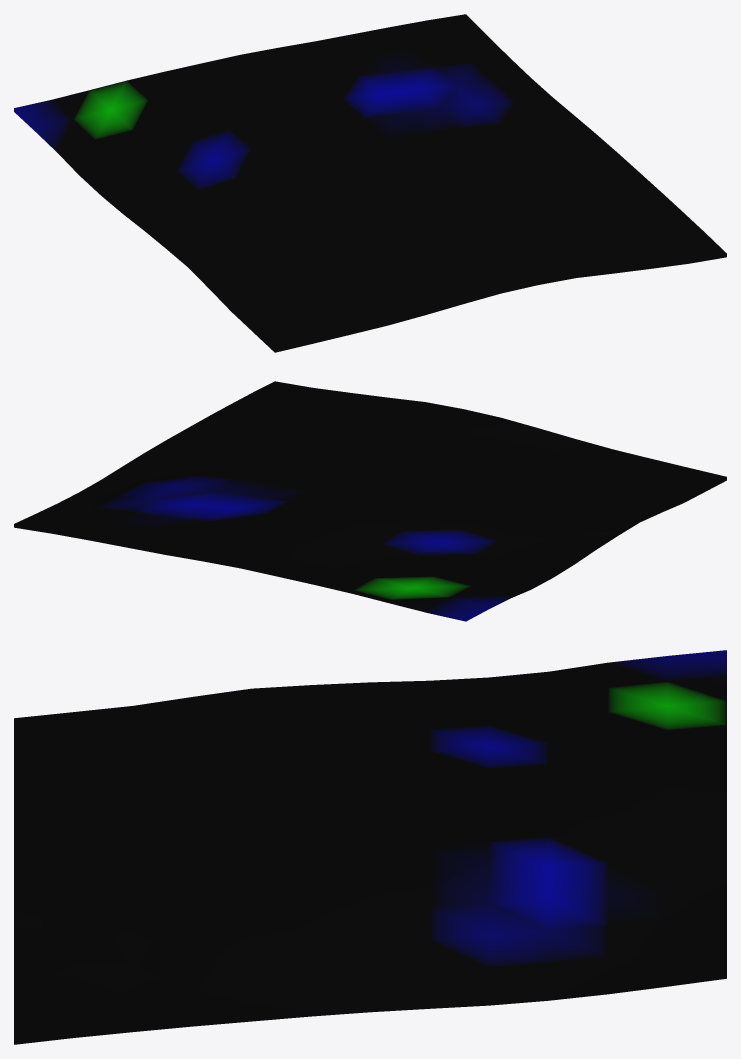
Rendered from coast_0_0.glb.
3 views of the same model, one above another, from view 1: azimuth 30°, elevation 25°; view 2: azimuth 150°, elevation 25°; view 3: azimuth 270°, elevation 25° (orthographic). The views are drawn at different scales.
Parts seen in each view (by area): view 1: terrain; view 2: terrain; view 3: terrain.
Boxes of the visible parts, x1,y1,x2,y2 form: terrain: [14, 14, 726, 352]; terrain: [14, 381, 726, 621]; terrain: [14, 650, 726, 1044].
Bounding box in the file's own units: 192 × 27.8 × 192.
